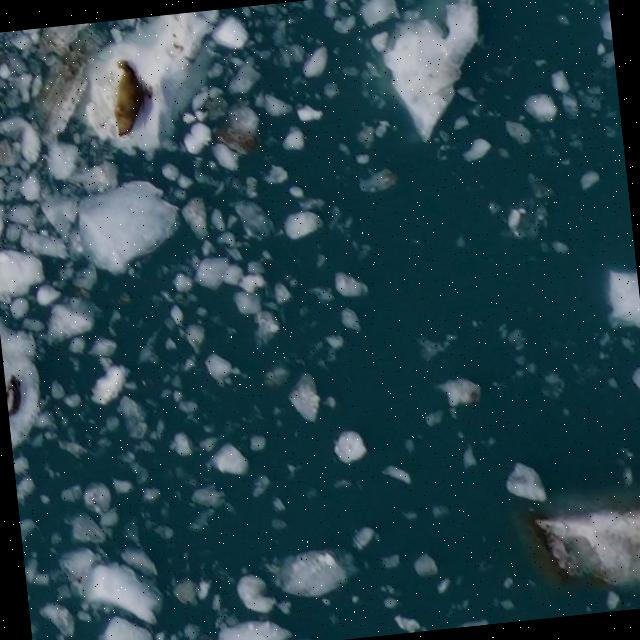seal: (113, 58, 142, 137), (4, 373, 22, 414)
